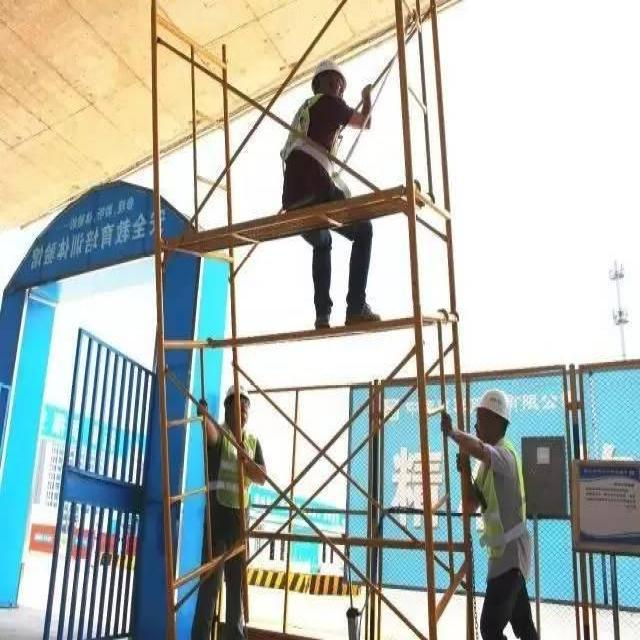Reflective-Jacket: (475, 438, 529, 560), (278, 91, 347, 168), (213, 420, 263, 512)
Safety-Helmet: (473, 384, 516, 423), (308, 52, 349, 86), (221, 379, 255, 406)
